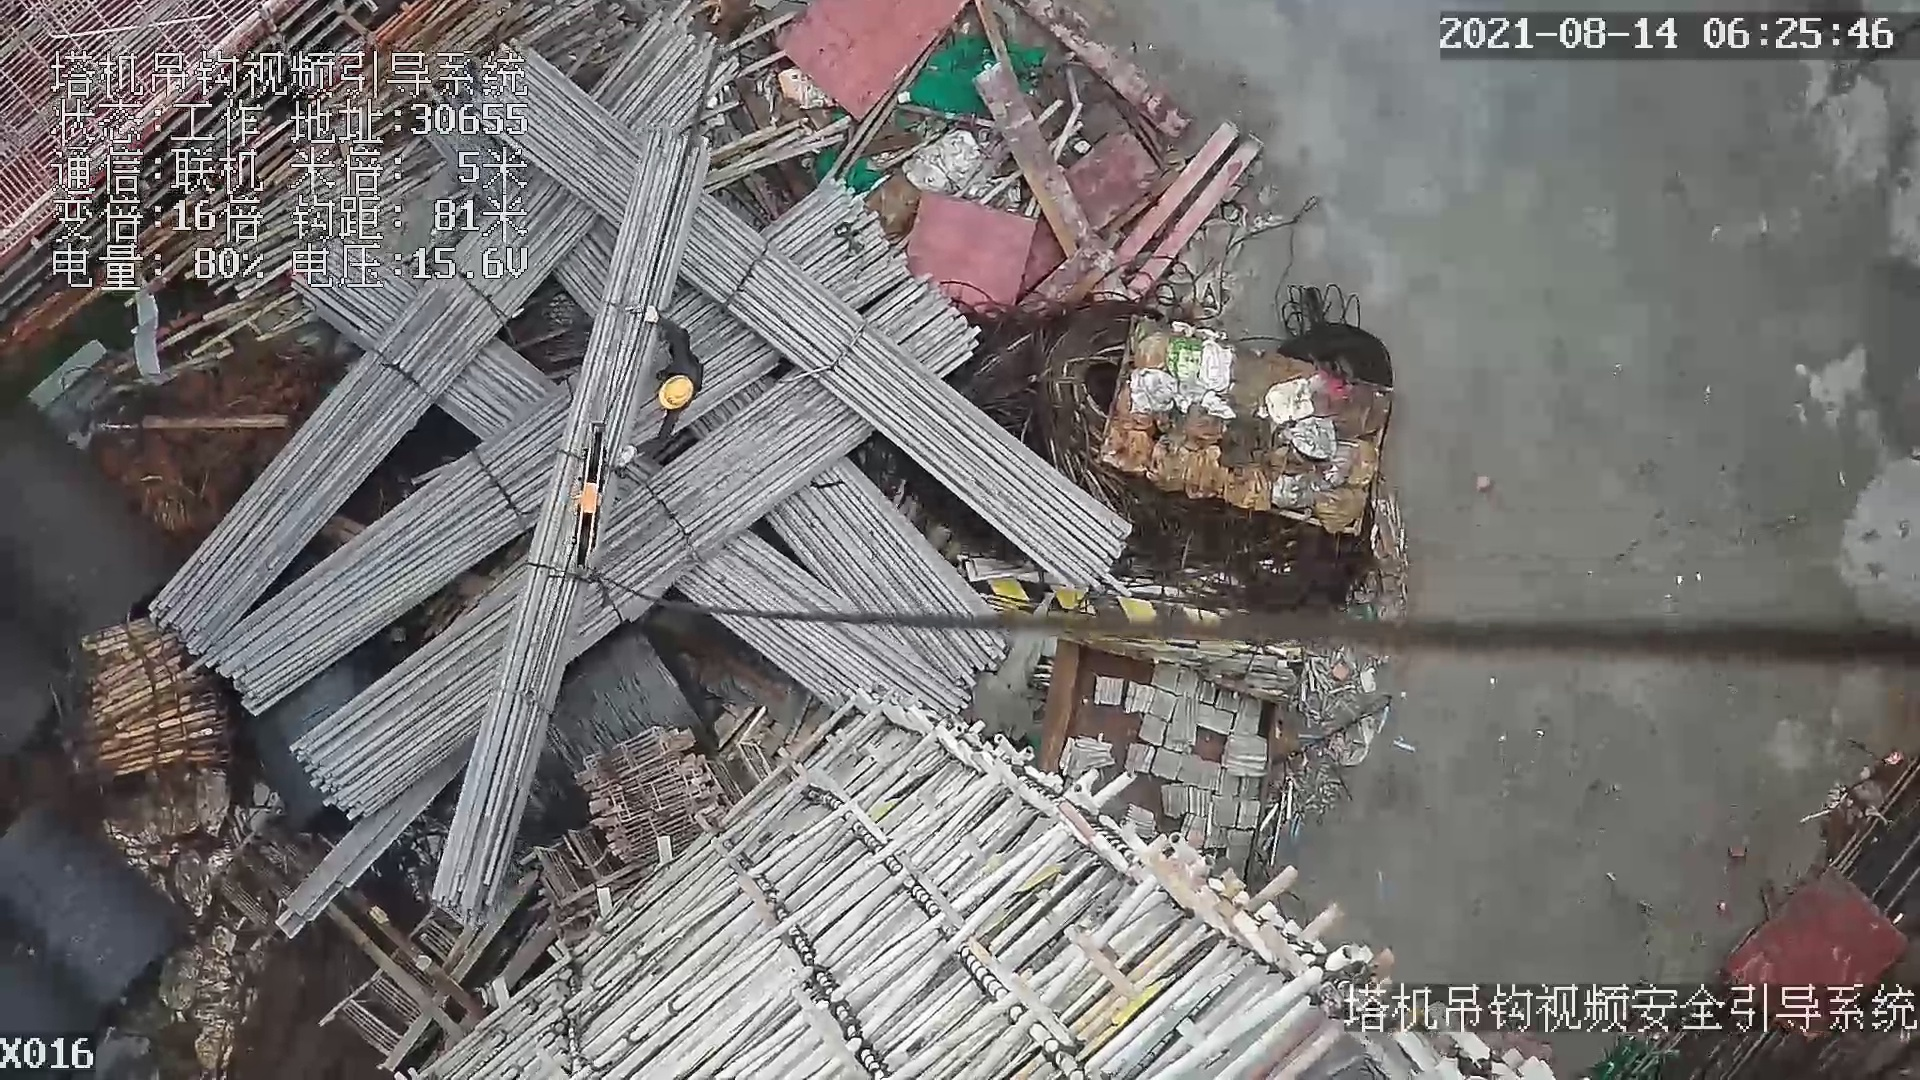helmet: (656, 372, 697, 413)
hook: (568, 415, 615, 585)
person: (618, 299, 712, 477)
